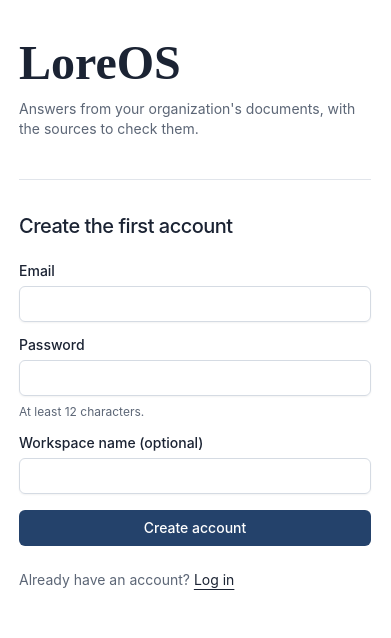
Scenario: signup refuses an 11-character password before posting
In the field labelled "Email": {"x": 195, "y": 304} [19,286,371,322], type "ada@example.com"
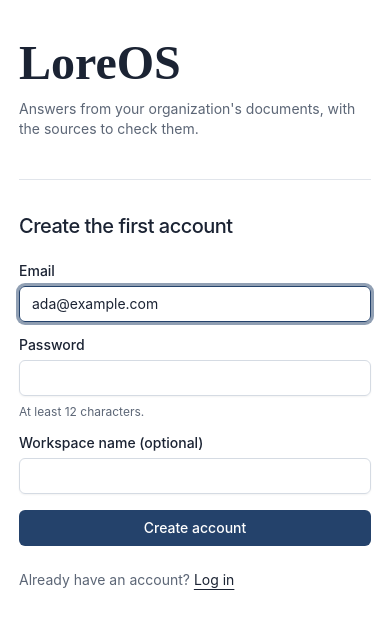
In the password field labelled "Password": {"x": 195, "y": 378} [19,360,371,396], type "elevenchars"
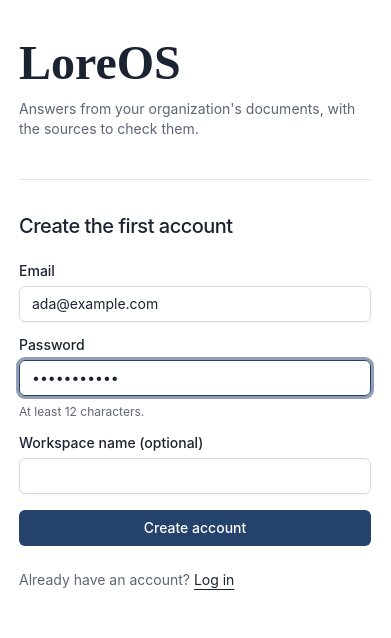
Click the button "Create account": {"x": 195, "y": 528} [19,510,371,546]
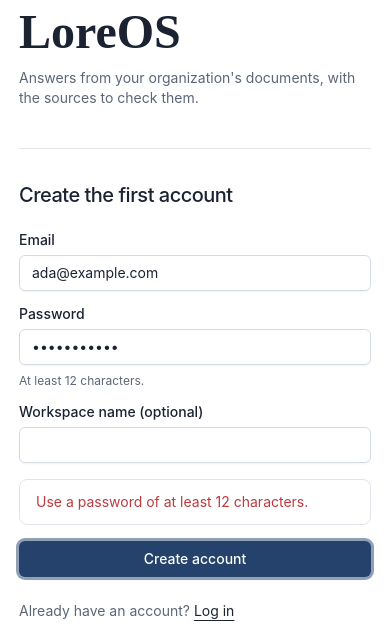
expect the message shows "at least 12 characters": met, box [36,492,308,510]
